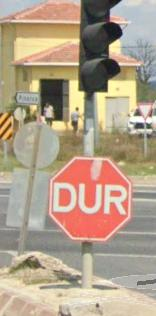stop: (47, 158, 134, 241)
